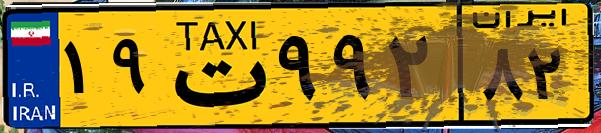1: (57, 26, 110, 100)
2: (385, 28, 445, 110), (525, 38, 570, 115)
8: (475, 38, 525, 113)
9: (270, 28, 330, 110), (330, 28, 385, 110), (110, 28, 158, 98)
ت: (158, 12, 270, 120)
